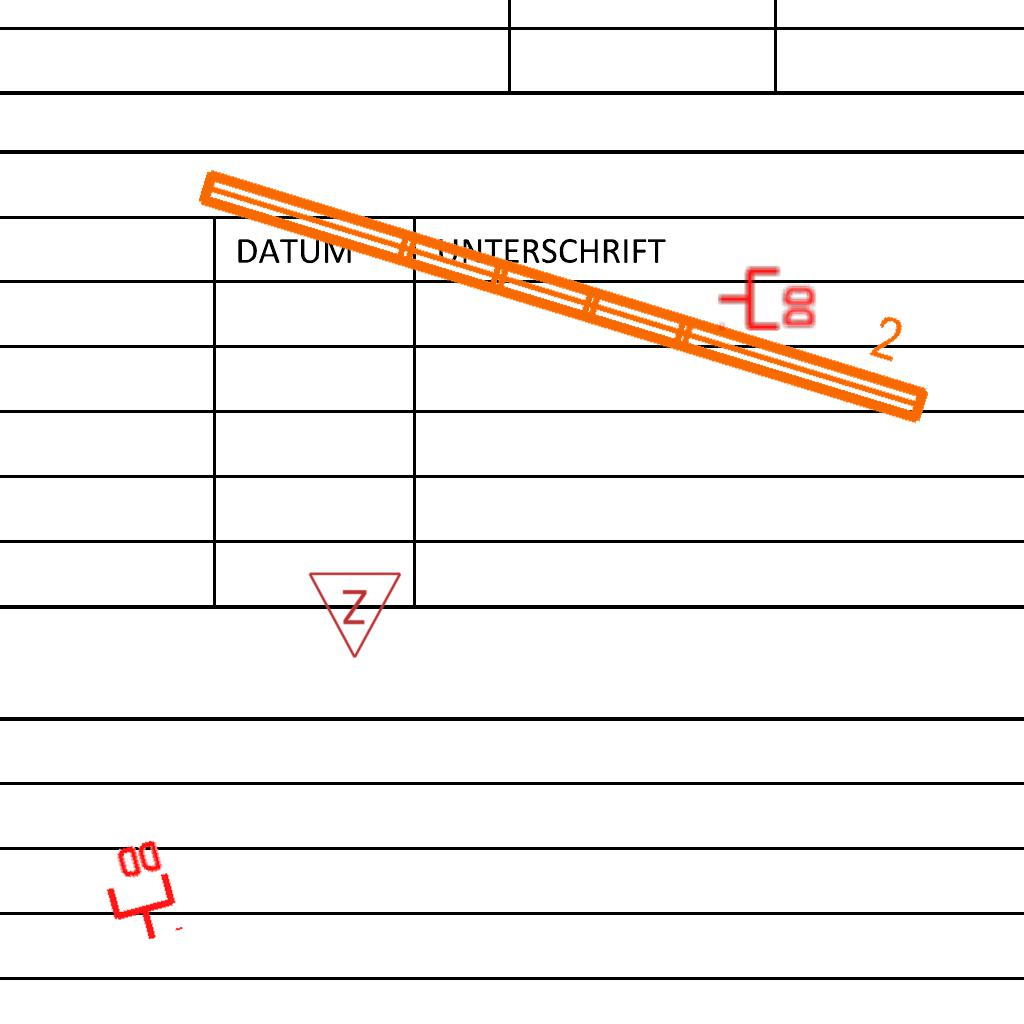Ambulanz_Pendelleuchte_LED: (183, 105, 957, 439)
Datenanschluss_zweifach: (91, 833, 186, 952), (716, 263, 819, 332)
Zimmersignalleuchte: (307, 565, 405, 665)
